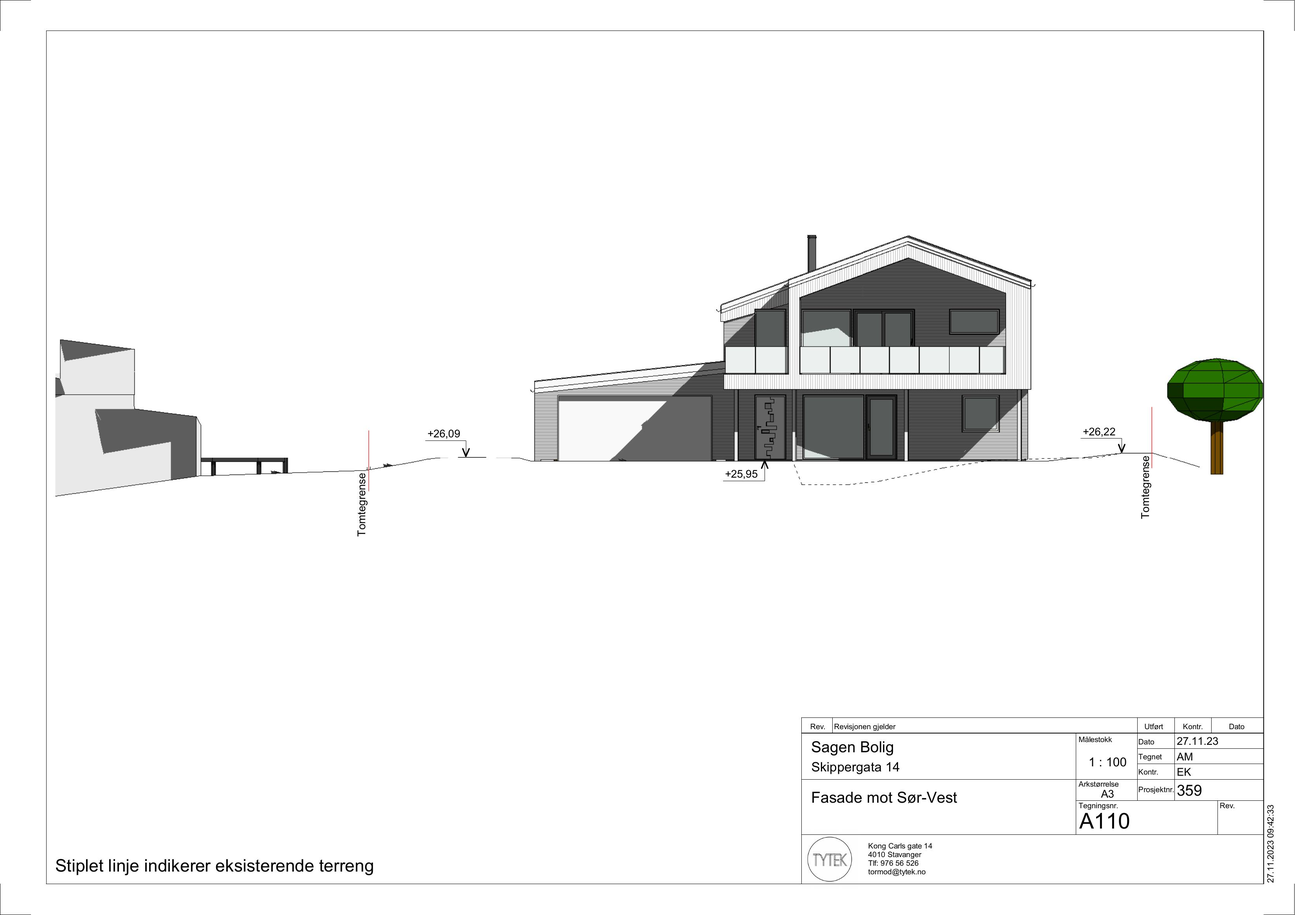fasade: (527, 232, 1038, 487)
